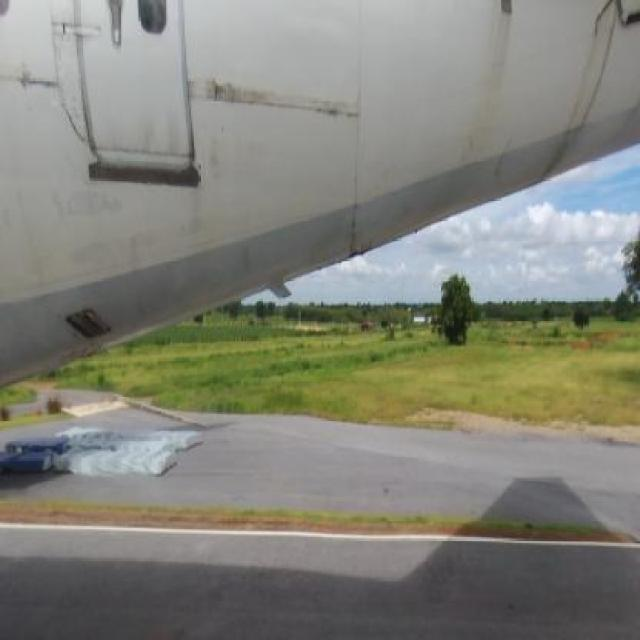Rust: (542, 2, 622, 182), (460, 1, 520, 184), (189, 60, 277, 132), (328, 194, 380, 261), (305, 78, 358, 139), (136, 112, 184, 172), (15, 56, 68, 110)
Scartch: (49, 179, 136, 281), (178, 186, 225, 257), (200, 139, 237, 176)
